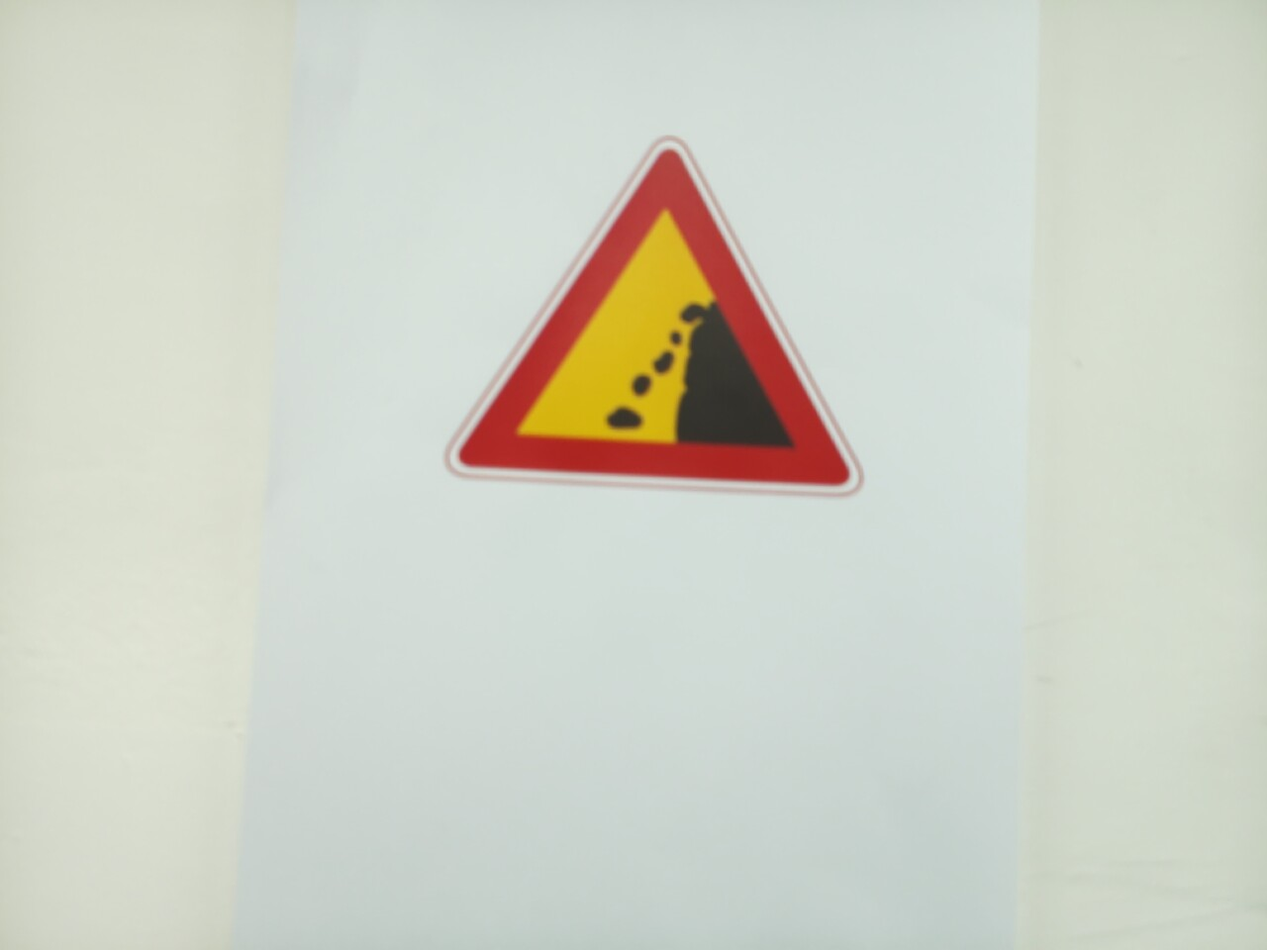falling_rocks: (447, 140, 861, 496)
